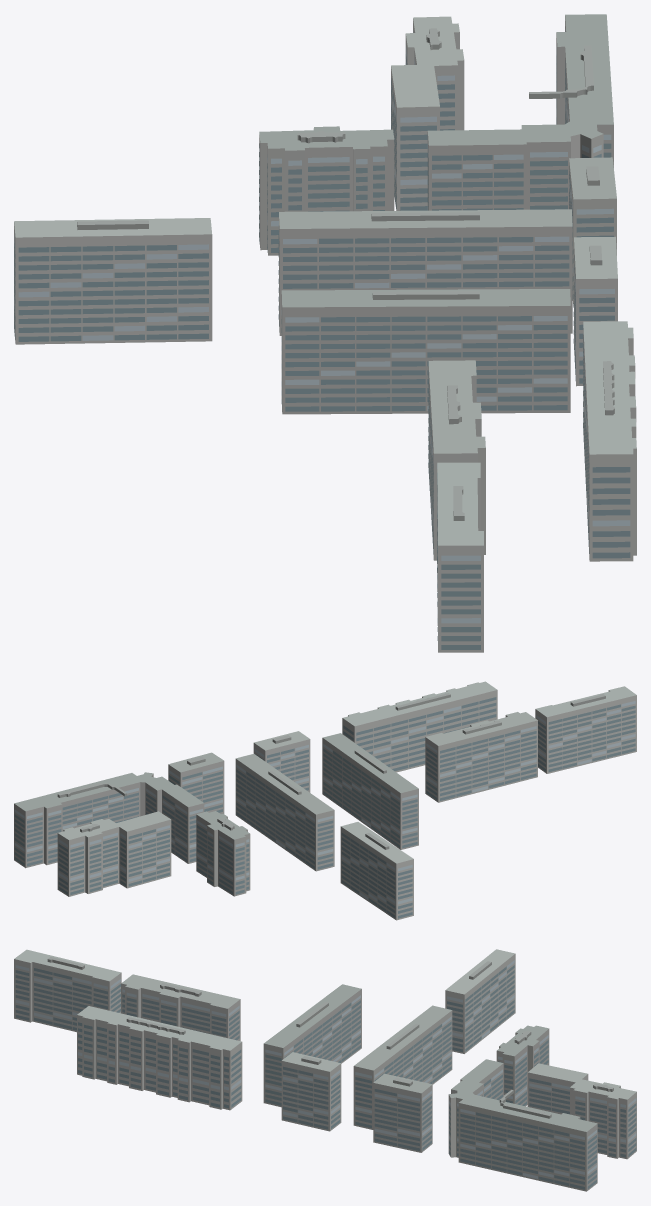
Rendered from apt-a13187203.glb.
3 views of the same model, one above another, from view 1: azimuth 30°, elevation 25°; view 2: azimuth 150°, elevation 25°; view 3: azimuth 270°, elevation 25° (orthographic). The views are drawn at different scales.
Parts seen in each view (by area): view 1: apt-a13187203; view 2: apt-a13187203; view 3: apt-a13187203.
Boxes of the visible parts, <box> form: apt-a13187203: <box>14,14,636,652</box>; apt-a13187203: <box>14,681,636,920</box>; apt-a13187203: <box>14,949,636,1191</box>.
Size of the model in its own units: 201 by 32 by 289.
